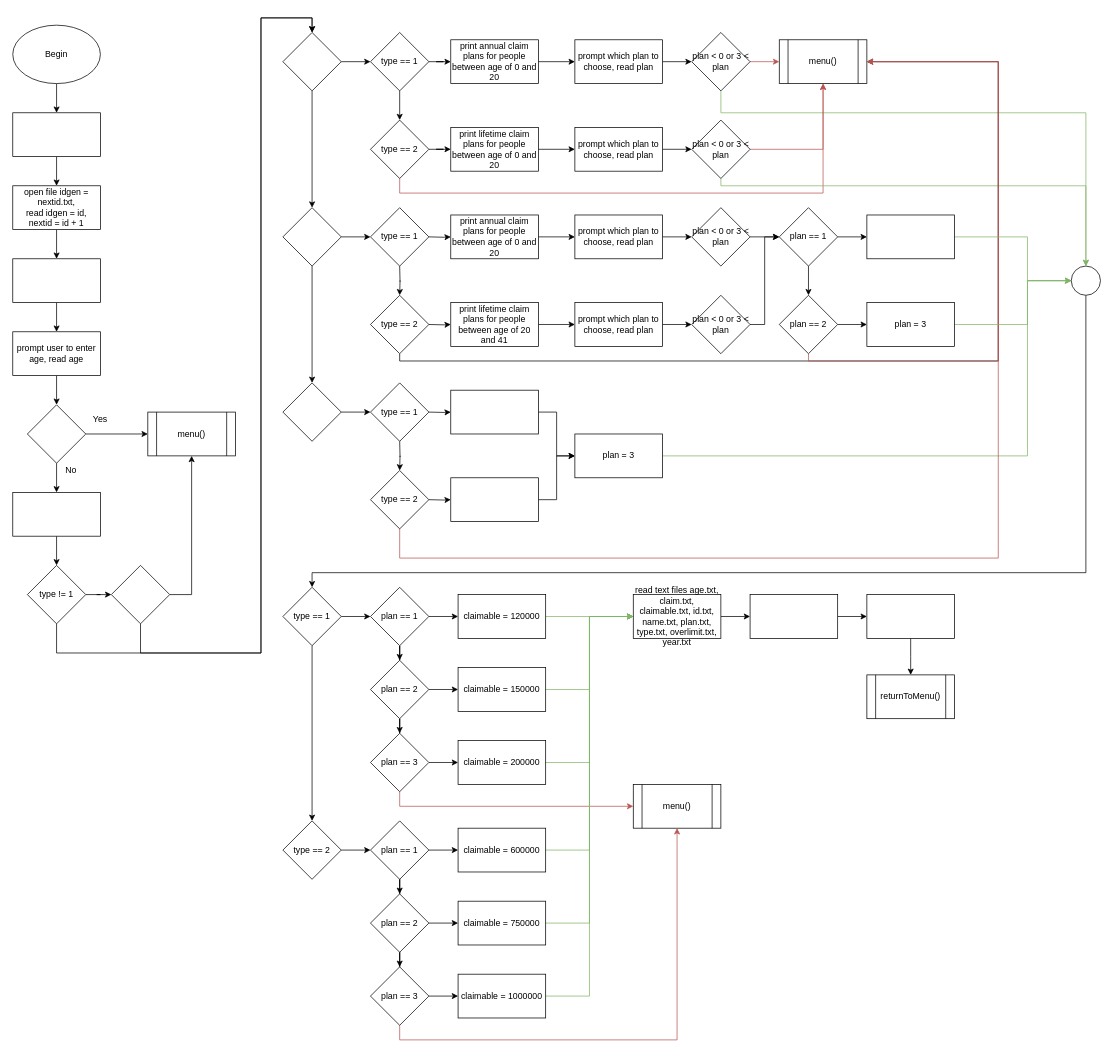
This 1113x1059 diagram has some shape labels left out. Here are the shapes that lost their labels. From the top down, the centre of each, then its label:
pixel 311 61: 0 < age and age < 21
pixel 56 134: declare variables, initialize claim = 0
pixel 311 236: 20 < age and age < 41
pixel 910 236: plan = 2
pixel 56 280: print table of all plans
pixel 311 411: 40 < age and age < 55
pixel 494 411: print annual claim plans for people between age of 40 and 55
pixel 56 433: age < 0 or age > 54
pixel 56 514: prompt user to choose claim limit type, read type
pixel 494 499: print lifetime claim plans for people between age of 40 and 55
pixel 140 594: type != 2
pixel 793 616: write to text files
pixel 910 616: close text files
